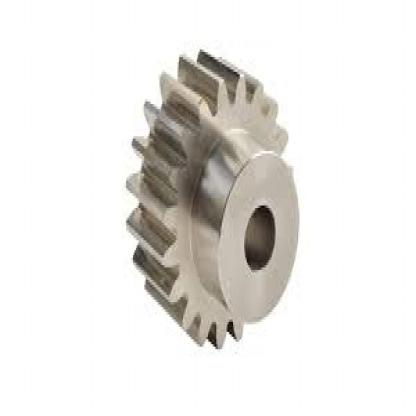FOD: (121, 40, 315, 354)
